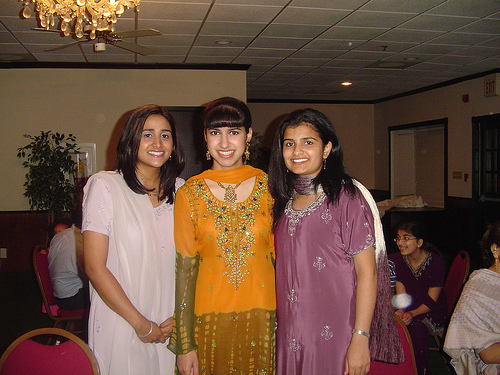without_mask: (192, 98, 260, 170), (120, 105, 183, 181), (276, 112, 338, 182), (388, 220, 432, 261)
